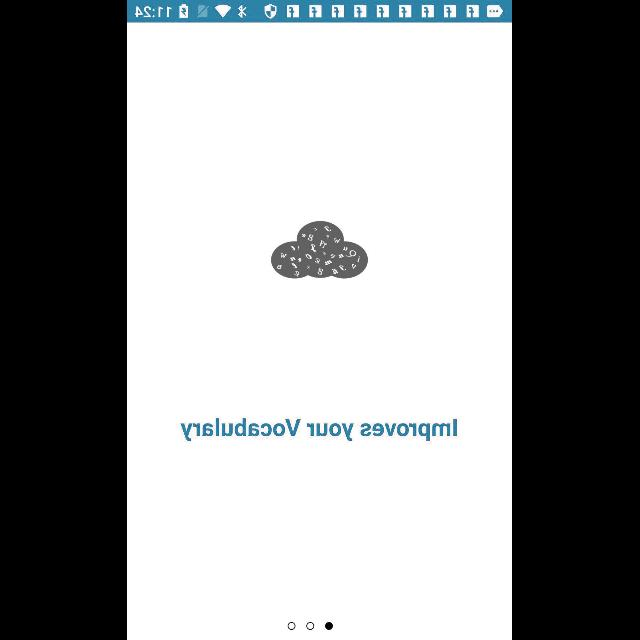image: (272, 221, 368, 279)
pageindicator: (288, 622, 334, 630)
text: (180, 418, 458, 442)
uppertaskbar: (128, 1, 512, 23)
